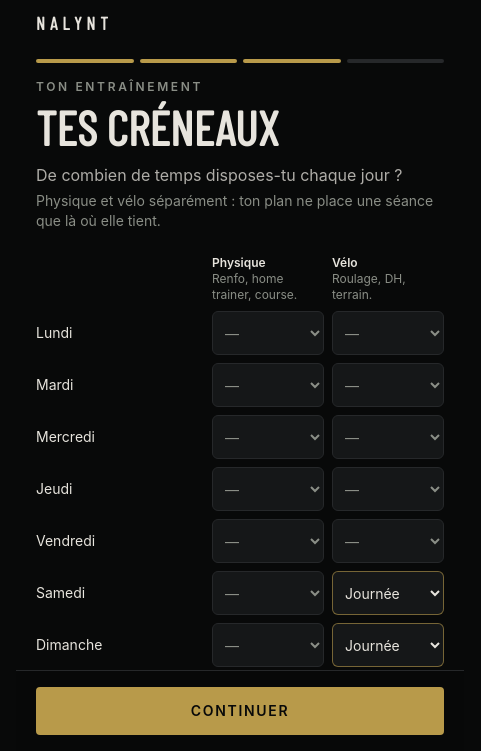
FirstRunSetup — the essentials › BUG-V2-1 — nothing declared (no physical, no riding time) cannot continue
expect the heading reads "Tes créneaux": met, box [36, 98, 278, 156]
Select "—" in the dropdown named "Vélo — Samedi" at (388, 593), box [332, 571, 444, 615]
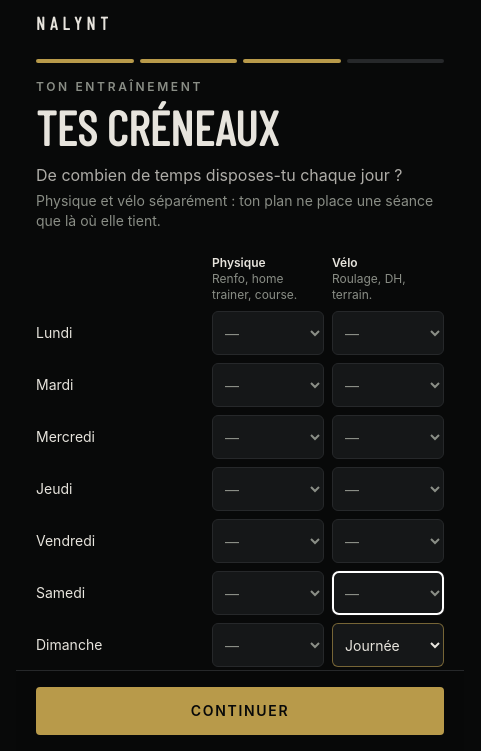
Select "—" in the dropdown named "Vélo — Dimanche" at (388, 645), box [332, 623, 444, 667]
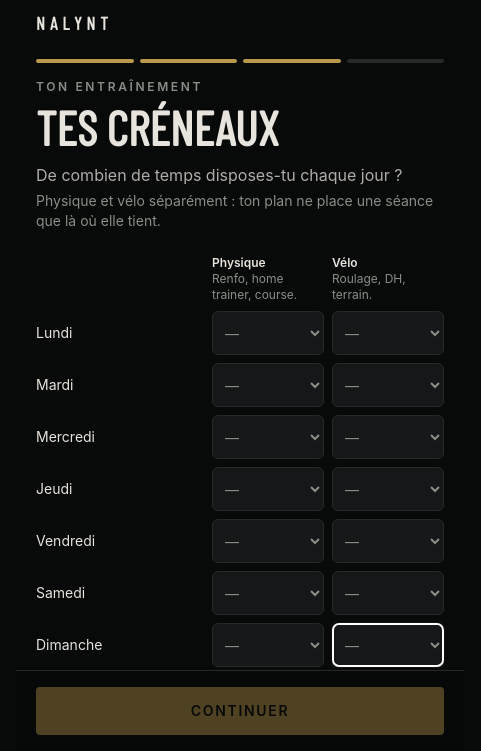
expect the button "Continuer" is disabled: met, box [36, 687, 444, 735]
Select "1 h" in the dropdown named "Physique — Lundi" at (268, 333), box [212, 311, 324, 355]
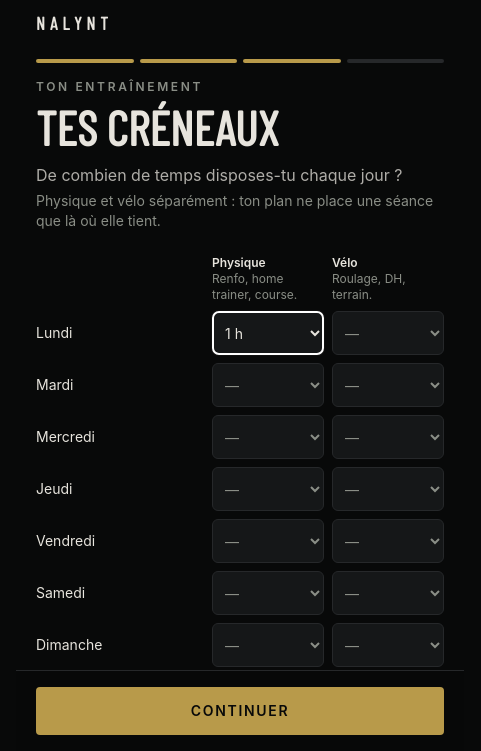
expect the button "Continuer" is enabled: met, box [36, 687, 444, 735]
